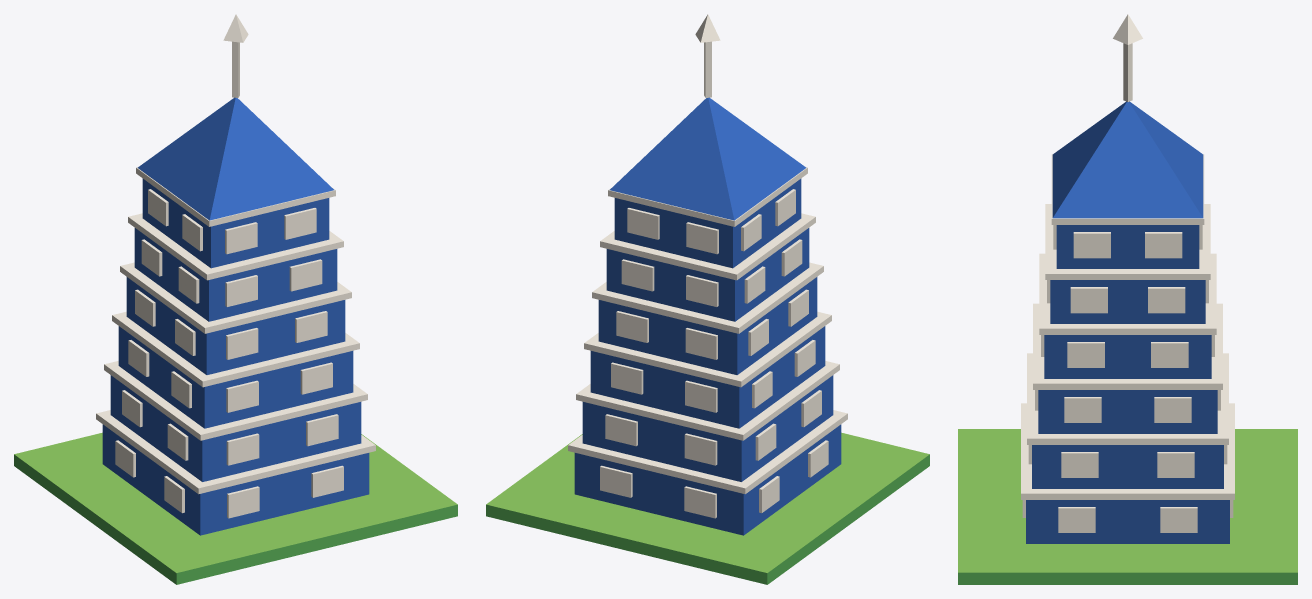
Rendered from skill_multiply_tower_t3.glb.
3 views of the same model, side by side, from view 1: azimuth 30°, elevation 25°; view 2: azimuth 150°, elevation 25°; view 3: azimuth 270°, elevation 25° (orthographic). The views are drawn at different scales.
Visible parts, largest first — view 1: base, floor_1, floor_2, roof, floor_3, floor_4, floor_5, floor_6; view 2: base, floor_1, floor_2, roof, floor_3, floor_4, floor_5, floor_6; view 3: base, roof, floor_1, floor_2, floor_3, floor_4, floor_5, floor_6.
Part boxes in pixels (x1,y1,x2,y2): base: (14,432,457,584); floor_1: (96,410,375,535); floor_2: (104,361,367,481); roof: (137,14,333,220); floor_3: (112,311,359,428); floor_4: (120,262,351,374); floor_5: (128,213,343,321); floor_6: (136,167,335,268); base: (486,432,929,584); floor_1: (568,410,847,535); floor_2: (576,361,839,481); roof: (610,14,806,220); floor_3: (584,311,831,428); floor_4: (592,262,823,374); floor_5: (600,213,815,321); floor_6: (608,167,807,268); base: (958,429,1297,584); roof: (1052,14,1203,218); floor_1: (1021,403,1234,543); floor_2: (1027,353,1228,488); floor_3: (1033,303,1222,433); floor_4: (1039,253,1216,378); floor_5: (1045,204,1210,323); floor_6: (1051,154,1204,268).
Size of the model in its own units: 1 by 1.62 by 1.
